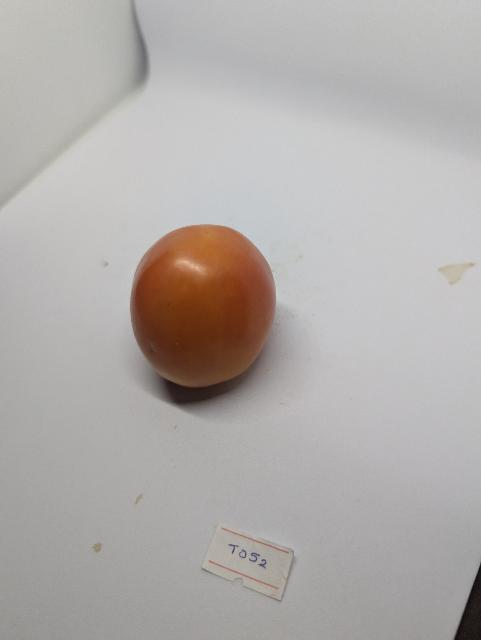turning: (119, 210, 289, 399)
